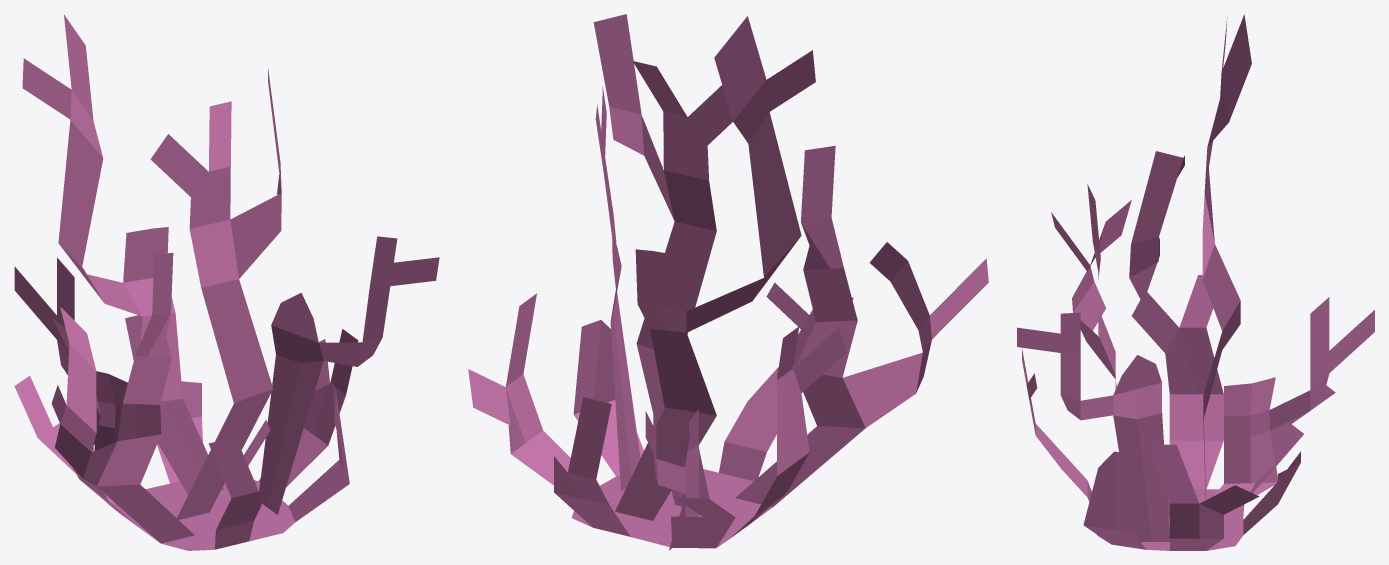
The model's file is coral_2.fbx.
3 renders of one model, left to right at view 1: azimuth 30°, elevation 25°; view 2: azimuth 150°, elevation 25°; view 3: azimuth 270°, elevation 25°, orthographic. The views are drawn at different scales.
Visible parts, largest first — view 1: coral_2; view 2: coral_2; view 3: coral_2.
Part boxes in pixels (<box>): coral_2: <box>14,14,439,550</box>; coral_2: <box>468,14,988,550</box>; coral_2: <box>1017,14,1374,550</box>.
Bounding box in the file's own units: 292 × 373 × 264.
